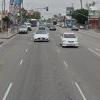Car: (32, 26, 95, 53)
